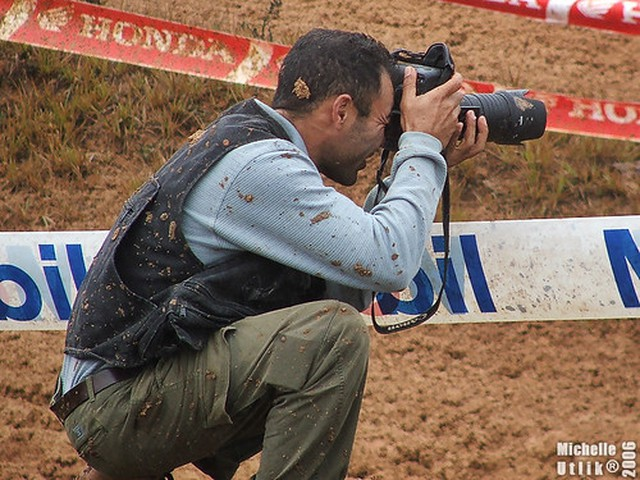Person: (37, 33, 421, 473)
